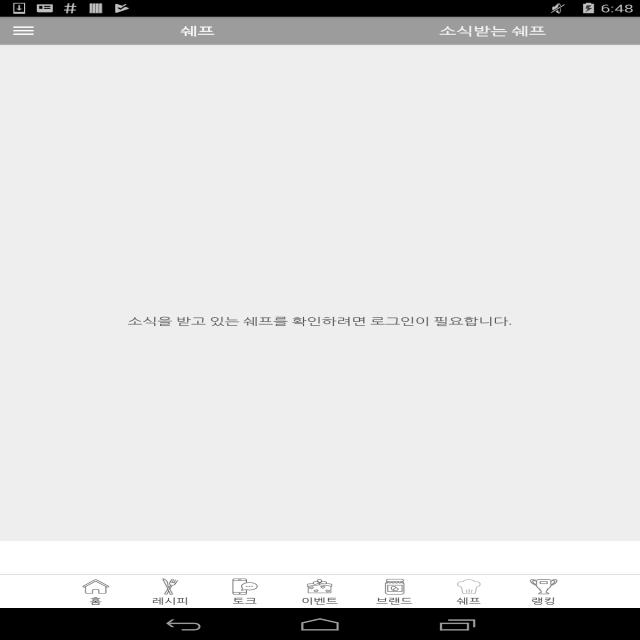ImageView: (276, 253, 364, 307), (156, 578, 184, 595), (231, 578, 259, 595), (380, 578, 408, 595), (455, 578, 483, 595), (82, 578, 109, 595), (306, 578, 333, 595), (530, 578, 557, 595), (13, 24, 34, 37)
TextView: (128, 314, 512, 328), (439, 23, 546, 38), (60, 595, 131, 608), (284, 595, 355, 608), (508, 595, 579, 608), (135, 595, 205, 608), (210, 595, 280, 608), (359, 595, 429, 608), (434, 595, 504, 608), (180, 23, 214, 38)
